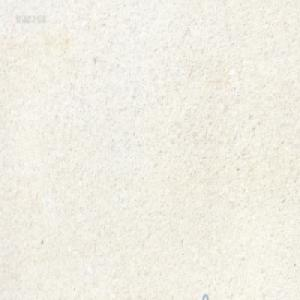Washer: (202, 292, 208, 300)
